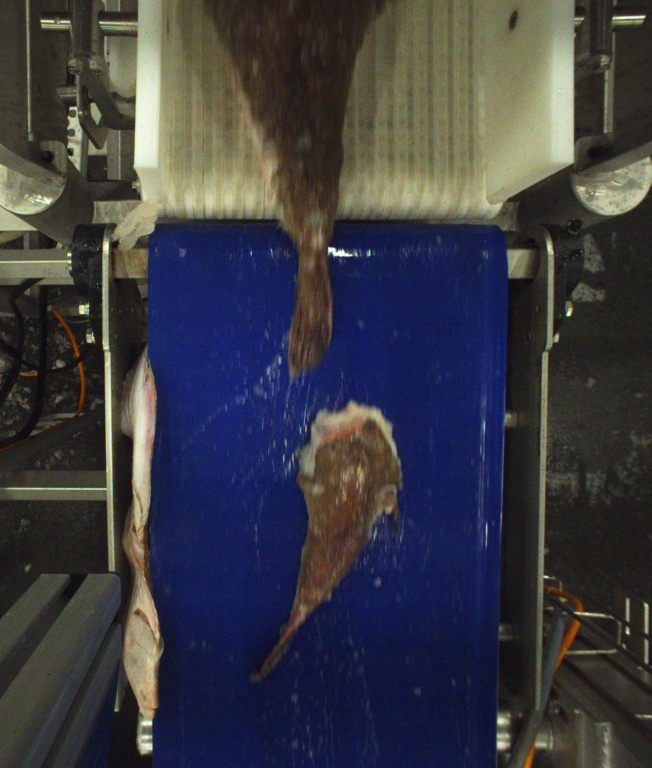ANF: (197, 0, 384, 378)
